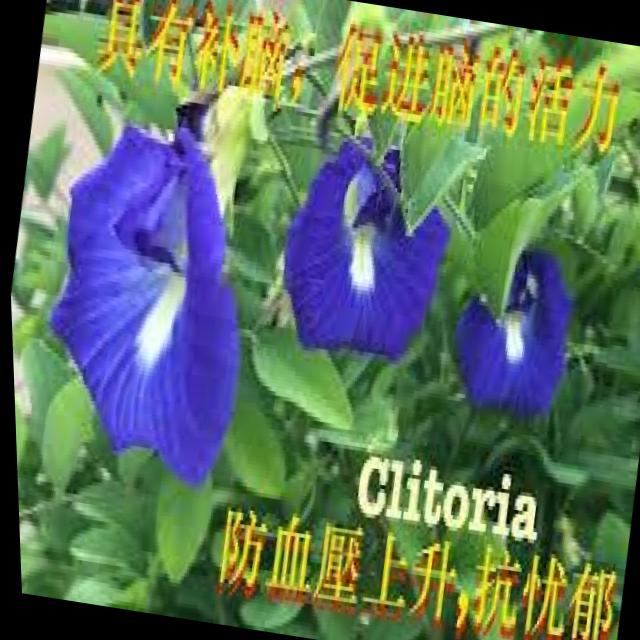Flower: (18, 109, 289, 495), (262, 123, 468, 378), (428, 243, 583, 425)
